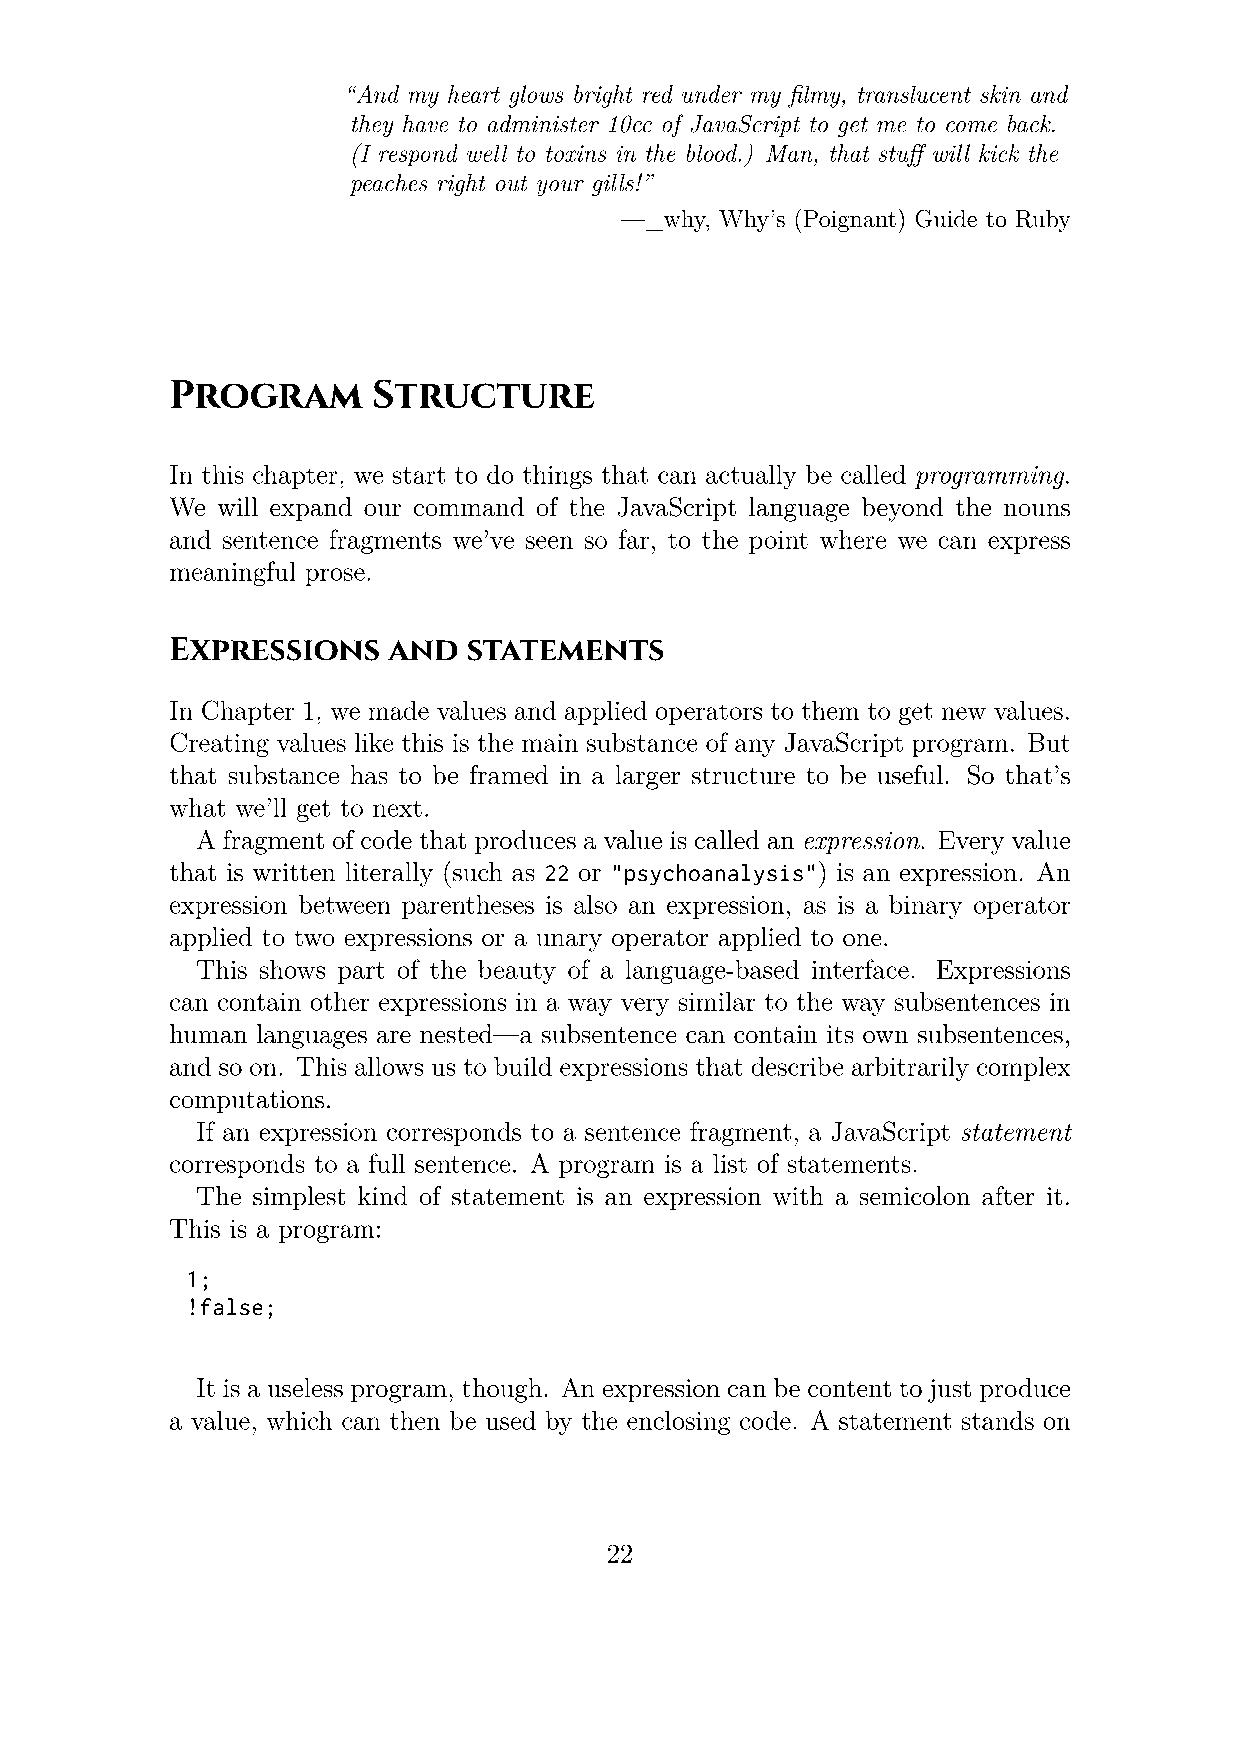chapter: (166, 370, 593, 413), (170, 629, 666, 666)
content: (165, 697, 1072, 1435), (165, 459, 1072, 592), (340, 76, 1074, 238)
content_pagenumber: (603, 1537, 637, 1569)
